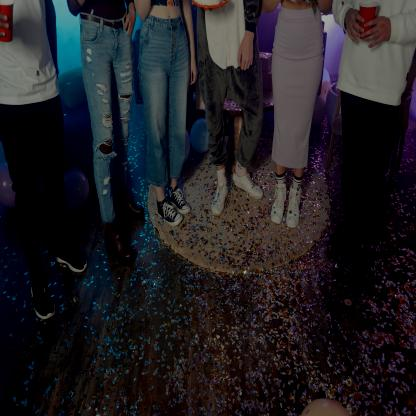dress: (0, 99, 70, 284), (342, 88, 401, 239), (271, 7, 326, 168), (137, 15, 188, 184), (201, 60, 264, 166)
